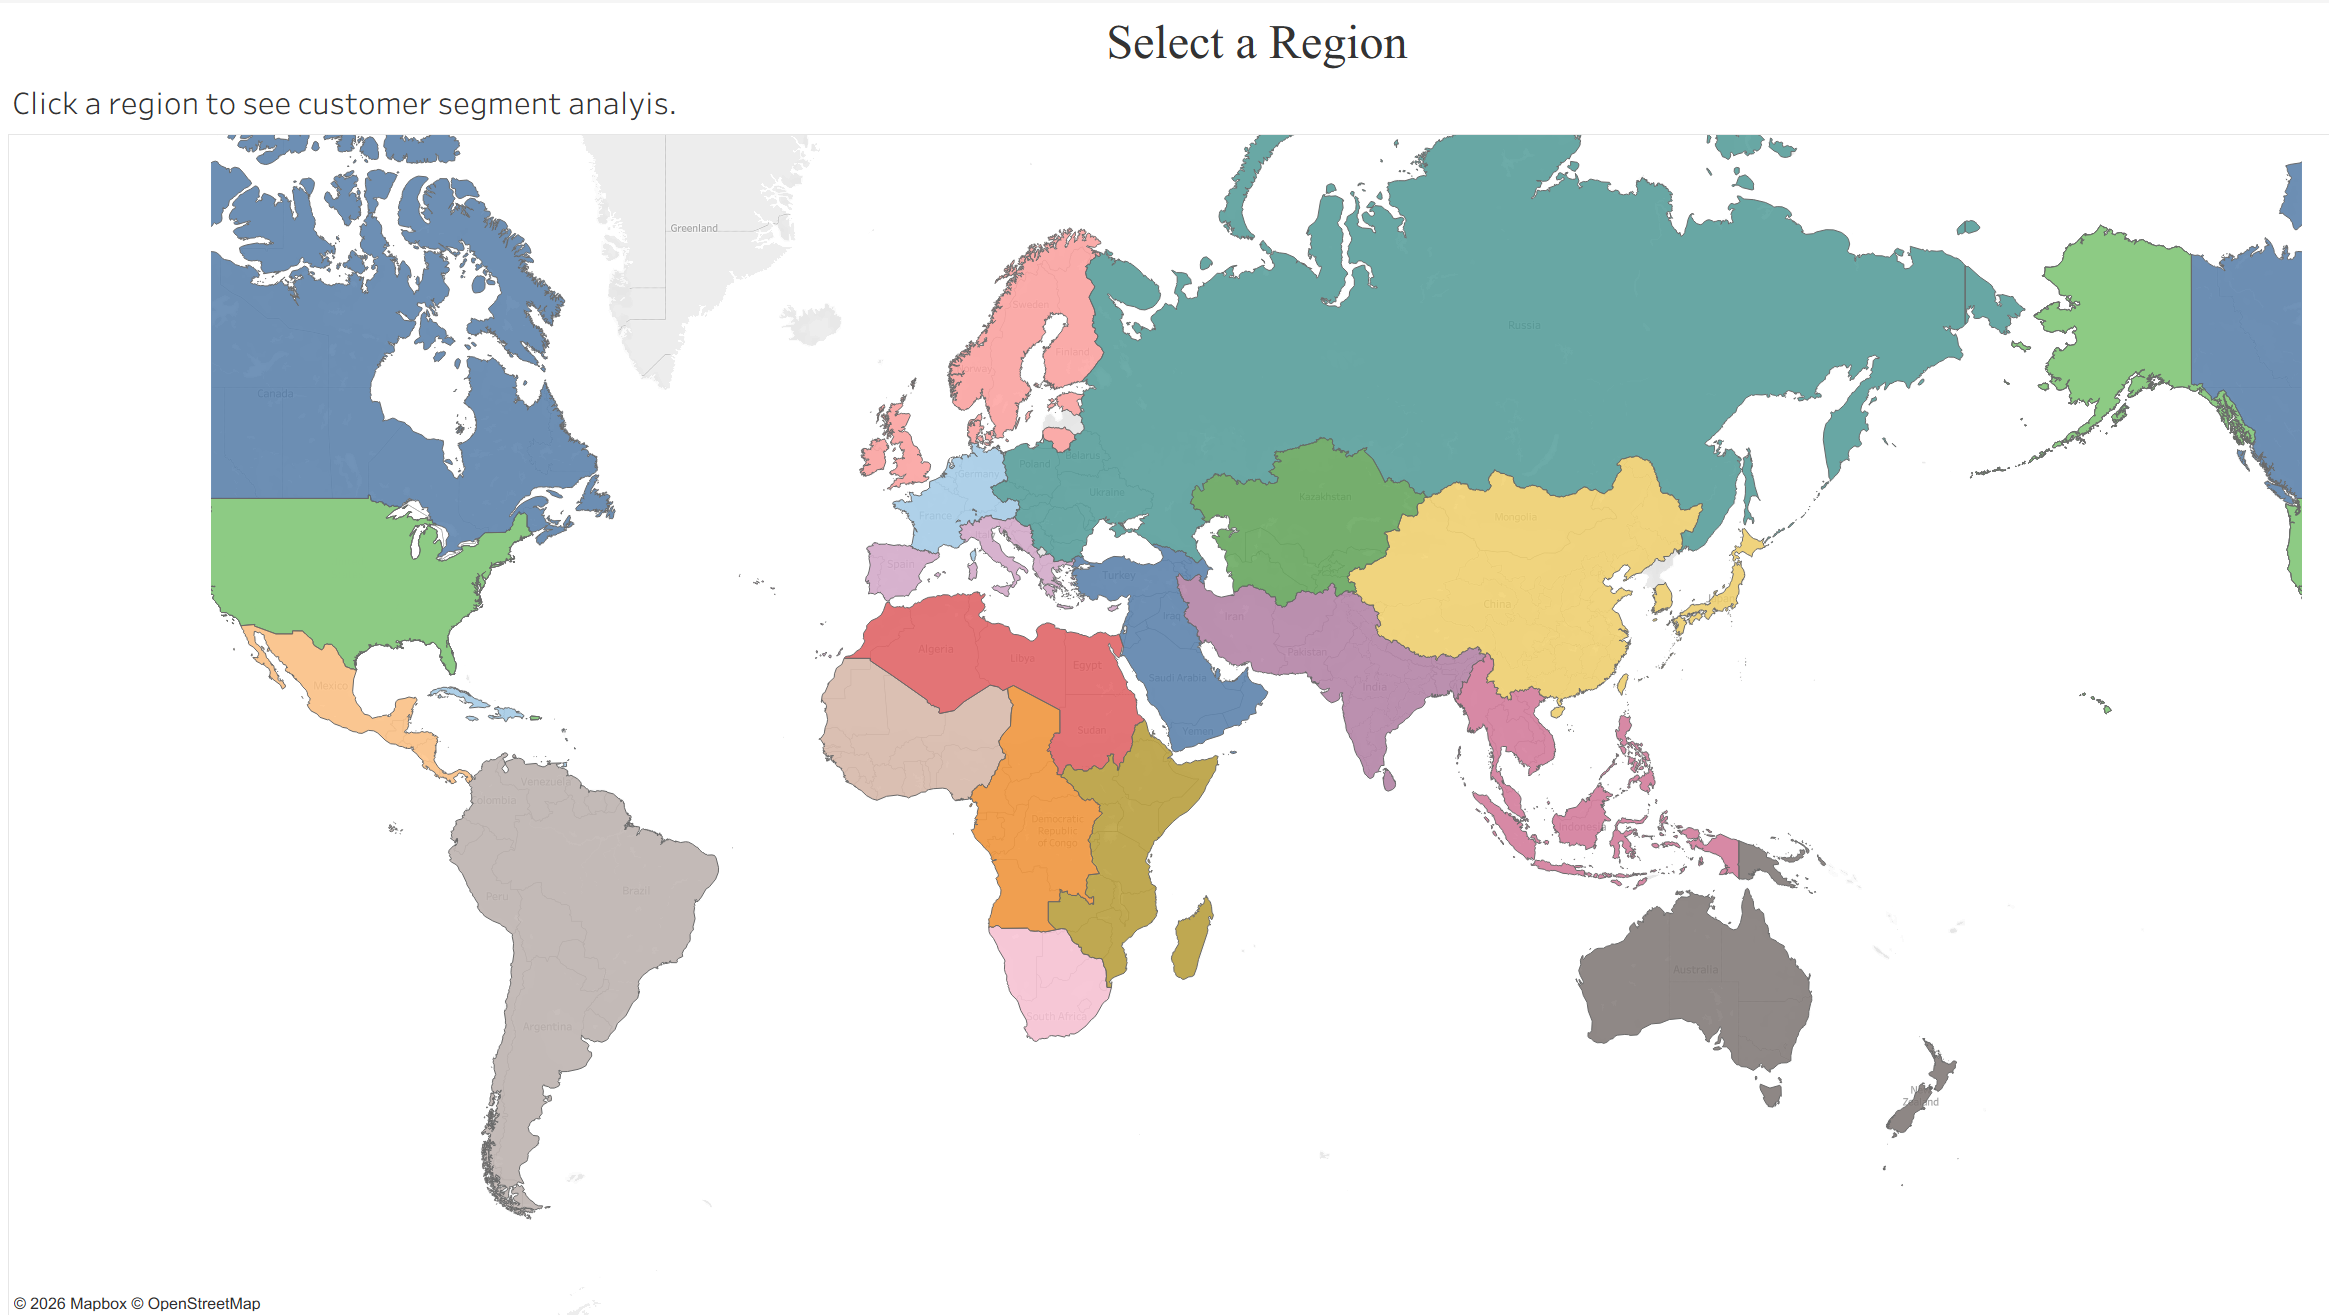

The dashboard page shown, as its layout file describes it:
{"tool":"tableau","page":{"name":"Select a Region","canvas":[1000,1000],"units":"permille","ordinal":2},"visuals":[{"type":"title","box":[3.2,6,993.7,46.8]},{"type":"worksheet","title":"Region Map","mark":"Multipolygon","box":[3.2,52.8,993.7,941.2]}]}

Visuals, with their boxes on the dashboard's canvas, which has no fixed pixel size, in thousandths of its width and height (x1, y1, x2, y2). These are canvas units, not pixel positions in the 2329x1315 screenshot, which may show the page scaled, cropped or inside an application window:
title: (3,6,997,53)
"Region Map" worksheet (Multipolygon marks): (3,53,997,994)
